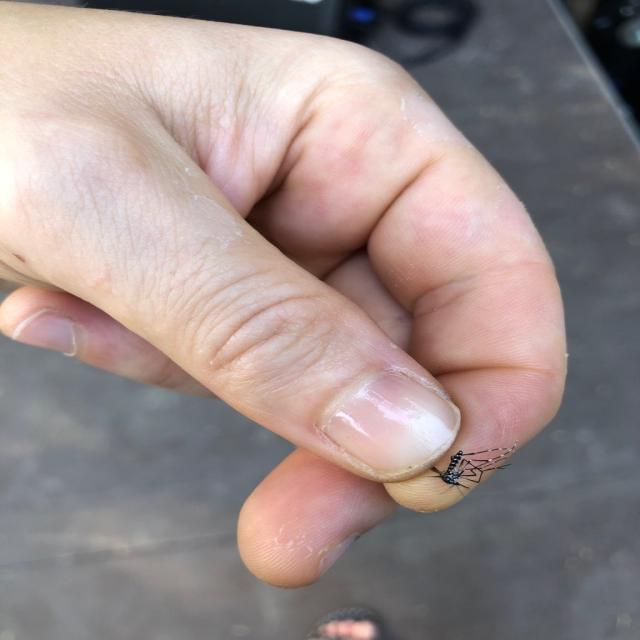albopictus: (407, 431, 522, 504)
